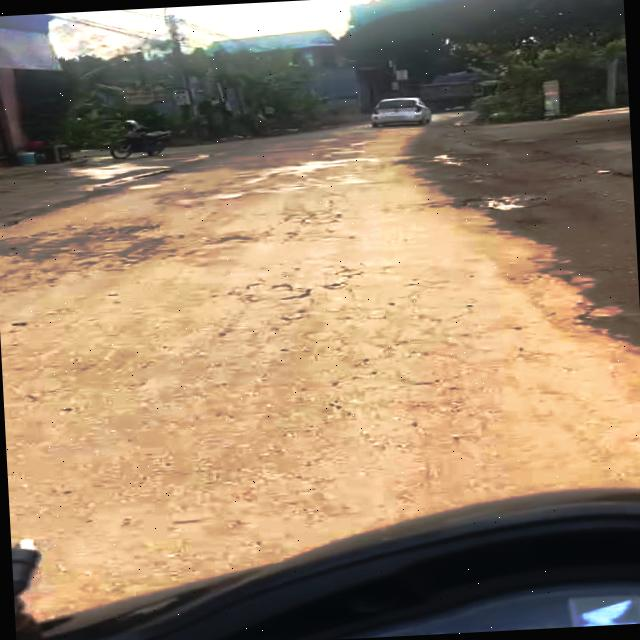pothole: (543, 257, 640, 359), (454, 192, 551, 214), (429, 152, 468, 171)
